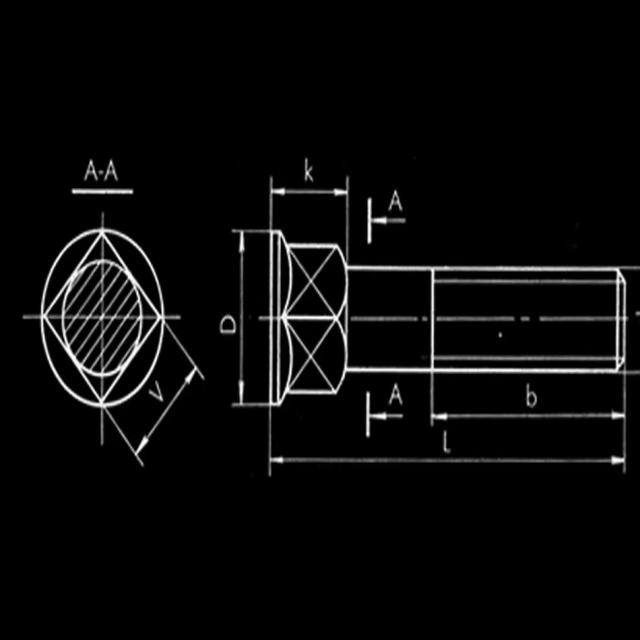marking_line: (269, 406, 631, 476), (430, 374, 629, 424), (229, 226, 269, 410), (268, 178, 350, 231)
numeric: (387, 186, 405, 212), (220, 314, 237, 336), (440, 426, 452, 455), (388, 384, 403, 405), (526, 383, 537, 407), (304, 159, 314, 181)
special_symbol: (363, 391, 407, 441), (367, 196, 407, 242)
